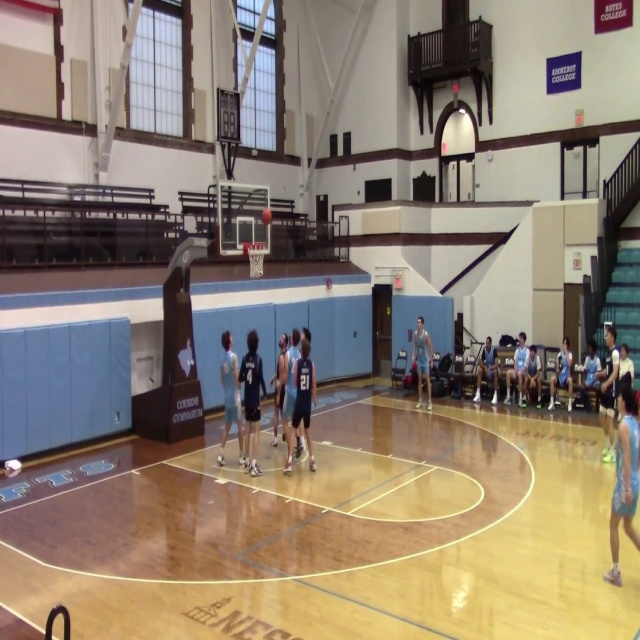Basketball: (4, 459, 22, 477), (261, 208, 272, 225)
